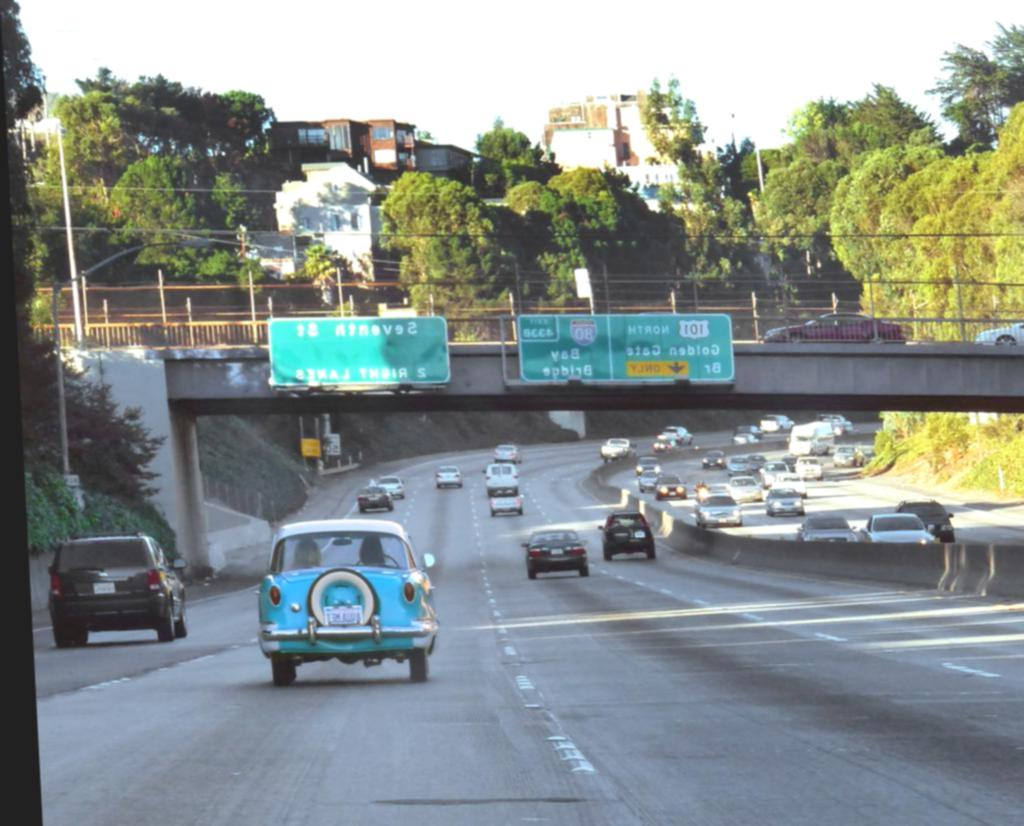License_Plate: (322, 602, 364, 626), (94, 581, 117, 594), (553, 546, 563, 553), (554, 549, 566, 553), (636, 532, 646, 536), (636, 530, 645, 534)
